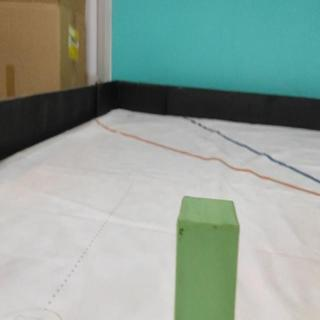greenbox: (175, 195, 240, 320)
